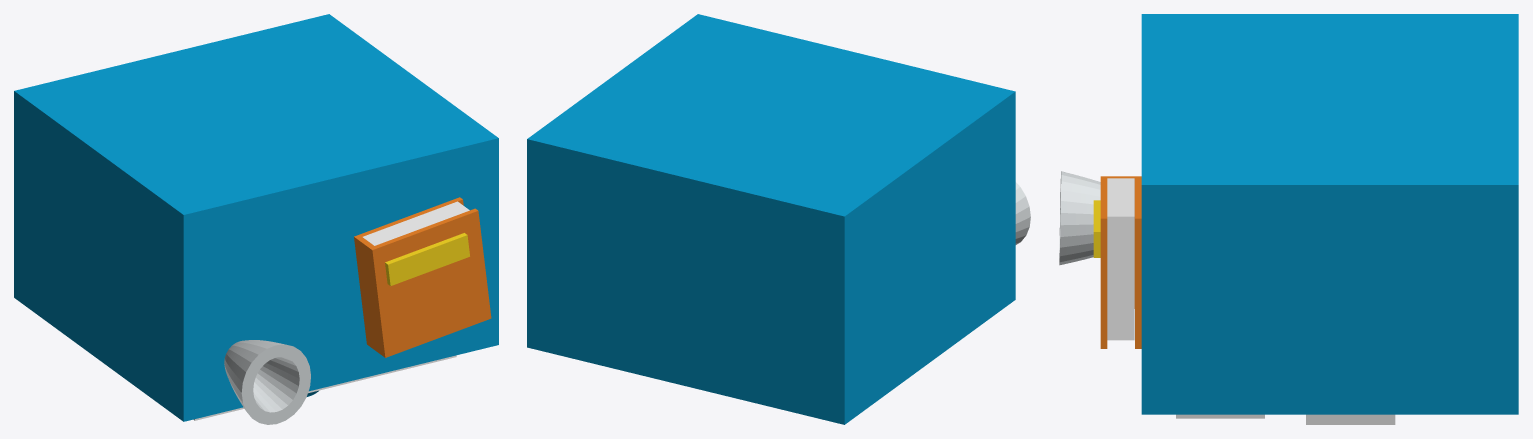
File: tinker.obj
3 renders of one model, left to right at view 1: azimuth 30°, elevation 25°; view 2: azimuth 150°, elevation 25°; view 3: azimuth 270°, elevation 25°, orthographic. The views are drawn at different scales.
Visible parts, largest first — view 1: group_0_40919, group_0_16089887, group_0_14541540, group_0_16768282, group_0_16448250; view 2: group_0_40919, group_0_14541540; view 3: group_0_40919, group_0_16448250, group_0_14541540, group_0_16089887, group_0_16768282.
Part boxes in pixels (left/top/right/bottom): group_0_40919: left=14, top=14, right=498, bottom=421; group_0_16089887: left=354, top=197, right=491, bottom=357; group_0_14541540: left=224, top=340, right=310, bottom=424; group_0_16768282: left=385, top=233, right=469, bottom=285; group_0_16448250: left=193, top=201, right=469, bottom=420; group_0_40919: left=527, top=14, right=1015, bottom=424; group_0_14541540: left=1015, top=182, right=1030, bottom=244; group_0_40919: left=1141, top=14, right=1518, bottom=414; group_0_16448250: left=1107, top=178, right=1395, bottom=424; group_0_14541540: left=1059, top=171, right=1100, bottom=265; group_0_16089887: left=1100, top=176, right=1141, bottom=348; group_0_16768282: left=1093, top=200, right=1100, bottom=257.
Bounding box in the file's own units: 59 × 45 × 67.
